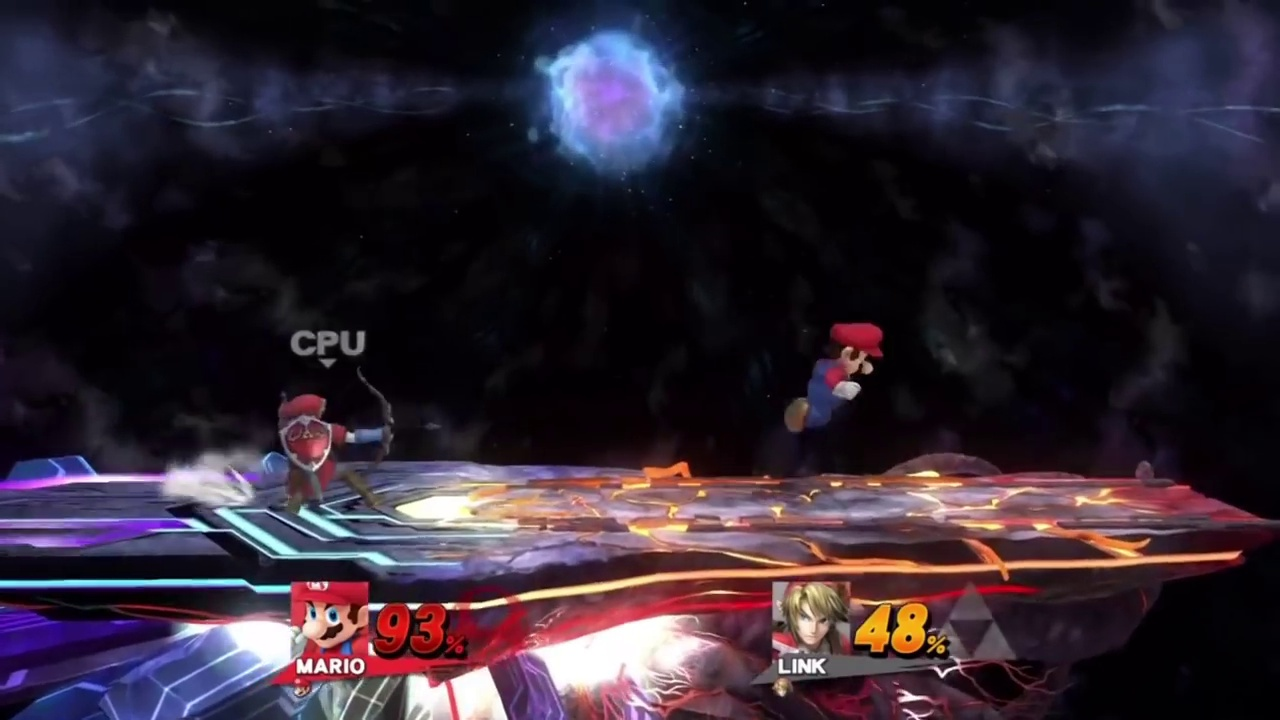Mario: (777, 324, 886, 432)
